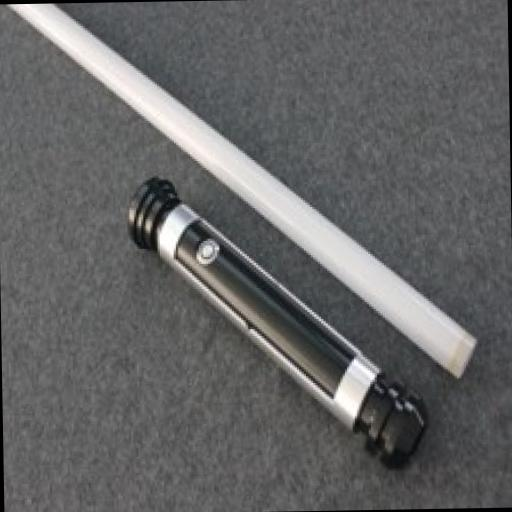lightsaber: (126, 168, 425, 476)
